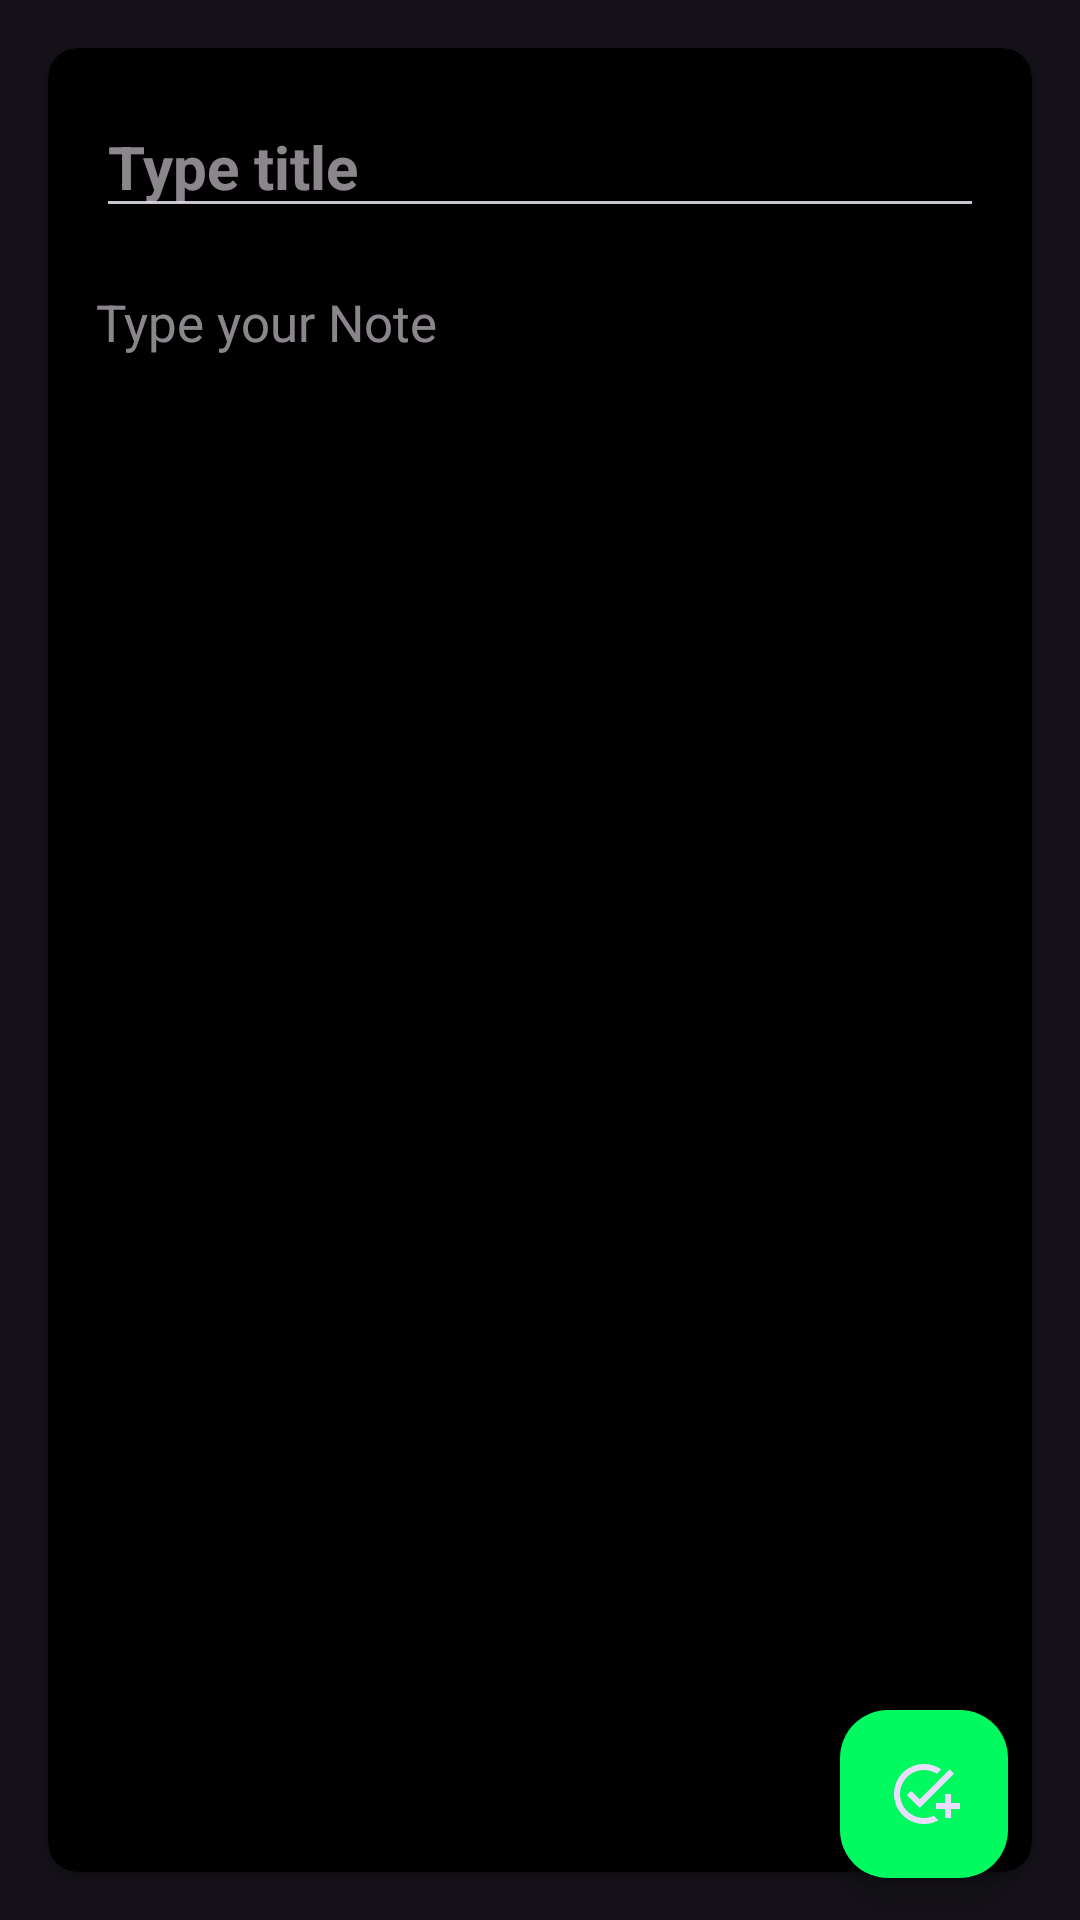

Icons on this 1080 × 1920 Android screen, each with the point to tap as (x,y):
add task: (924,1794)
